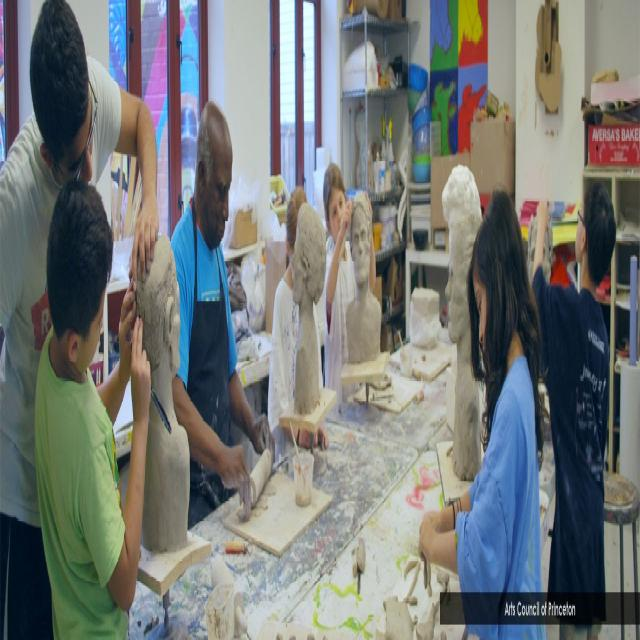body: (0, 0, 160, 638), (414, 172, 546, 638), (33, 171, 149, 638), (166, 94, 276, 537), (530, 175, 618, 640), (110, 222, 190, 560), (267, 182, 329, 466), (440, 157, 482, 494), (285, 192, 327, 428), (322, 160, 355, 386), (344, 182, 380, 376), (524, 191, 558, 300)
